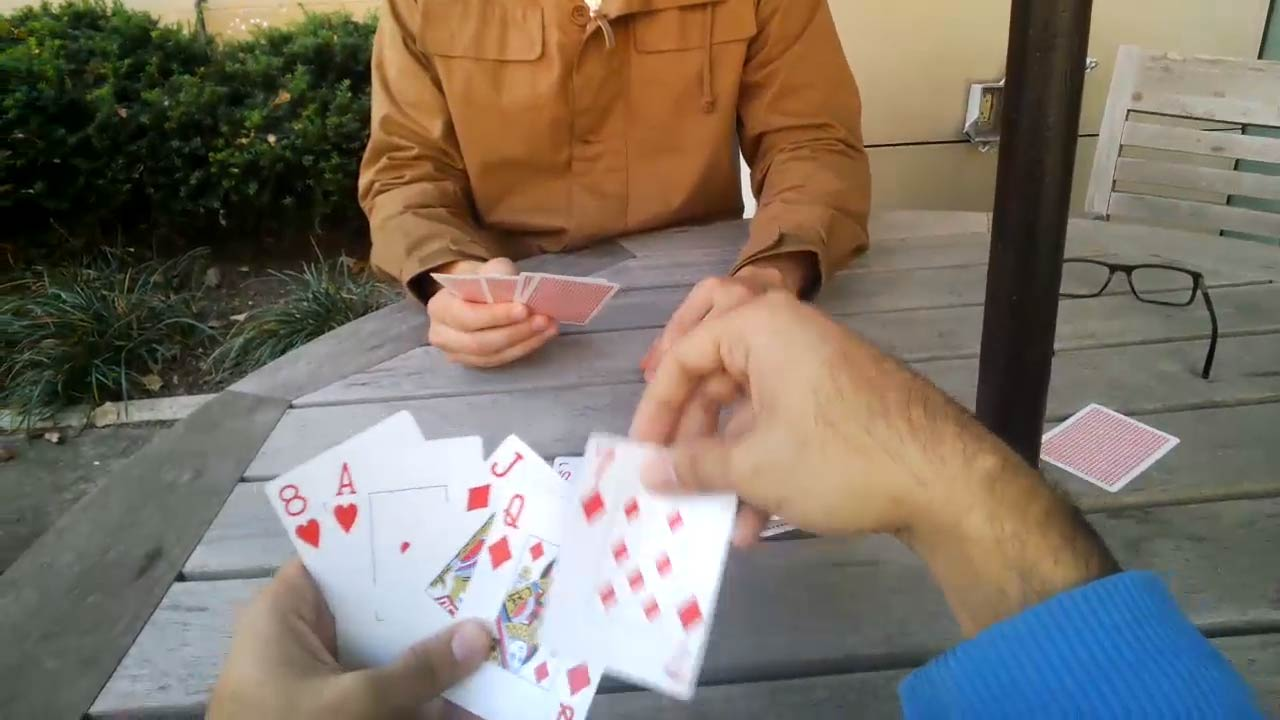hand: (623, 291, 1053, 548), (203, 544, 482, 718), (640, 266, 784, 377), (425, 260, 559, 374)
